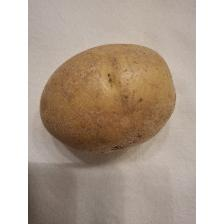Kartoffel: (37, 40, 181, 156)
